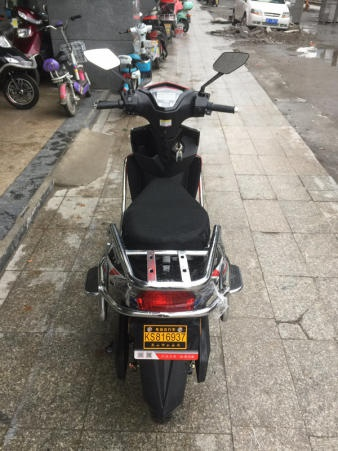non-vehicle: (86, 79, 241, 424), (43, 11, 90, 120), (0, 33, 40, 108), (11, 5, 43, 64)
